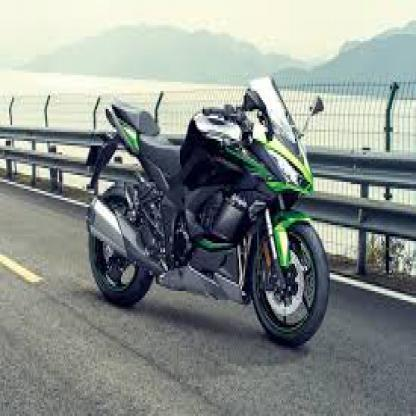Motorcycle: (87, 72, 335, 350)
